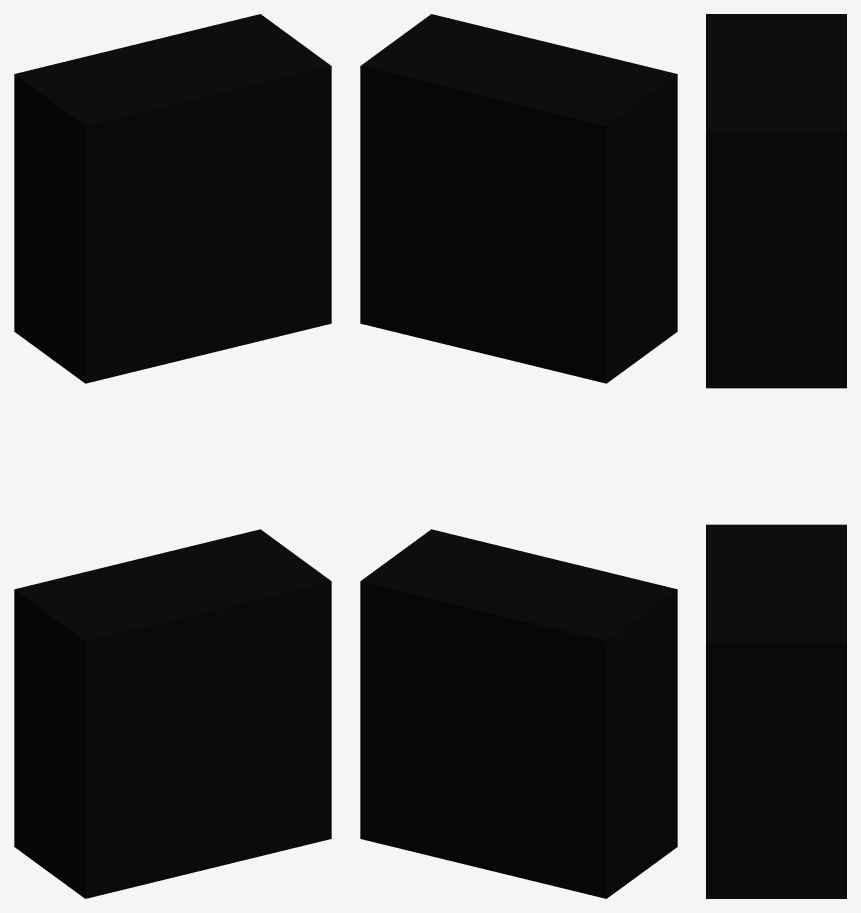
File: Colon.obj
3 views of the same model, side by side, from view 1: azimuth 30°, elevation 25°; view 2: azimuth 150°, elevation 25°; view 3: azimuth 270°, elevation 25° (orthographic).
Bounding box in the file's own units: 0.2 × 0.6 × 0.1.
